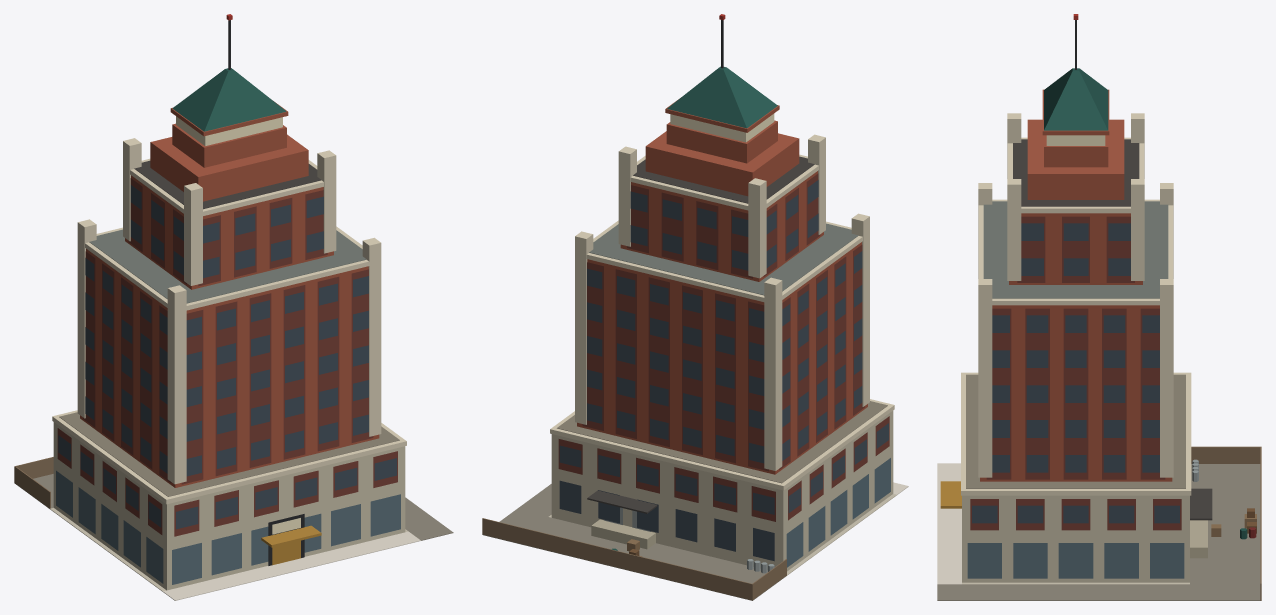
Rendered from tower_b.glb.
3 views of the same model, side by side, from view 1: azimuth 30°, elevation 25°; view 2: azimuth 150°, elevation 25°; view 3: azimuth 270°, elevation 25° (orthographic). The views are drawn at different scales.
Visible parts, largest first — view 1: tower_b; view 2: tower_b; view 3: tower_b.
Part boxes in pixels (<box>): tower_b: <box>14,14,453,600</box>; tower_b: <box>482,14,908,600</box>; tower_b: <box>937,14,1261,600</box>.
Size of the model in its own units: 30 by 52.05 by 30.
